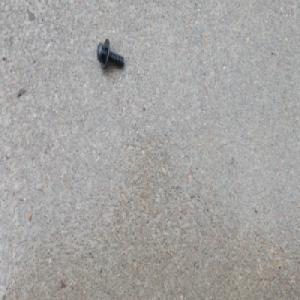BoltWasher: (97, 37, 125, 71)
